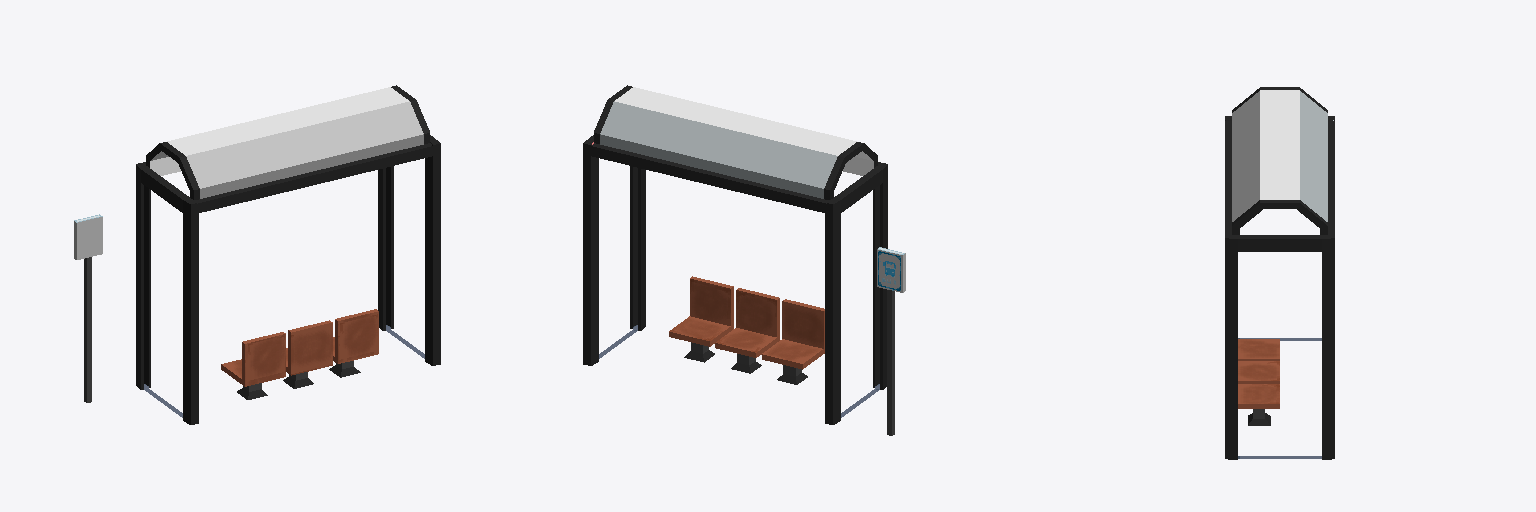
The picture shows the model from 3 angles: view 1: azimuth 30°, elevation 25°; view 2: azimuth 150°, elevation 25°; view 3: azimuth 270°, elevation 25°; orthographic projection.
Visible parts, largest first — view 1: cuboid, tube; view 2: cuboid, tube; view 3: tube, cuboid.
Part boxes in pixels (x1,y1,x2,y2): cuboid: (74,135,440,424); tube: (144,85,433,213); cuboid: (583,135,905,435); tube: (590,85,879,213); tube: (1225,87,1334,234); cuboid: (1225,116,1334,459).
Size of the model in its own units: 3.84 by 2.94 by 1.16.
Materials: 1 (1 with a texture image).